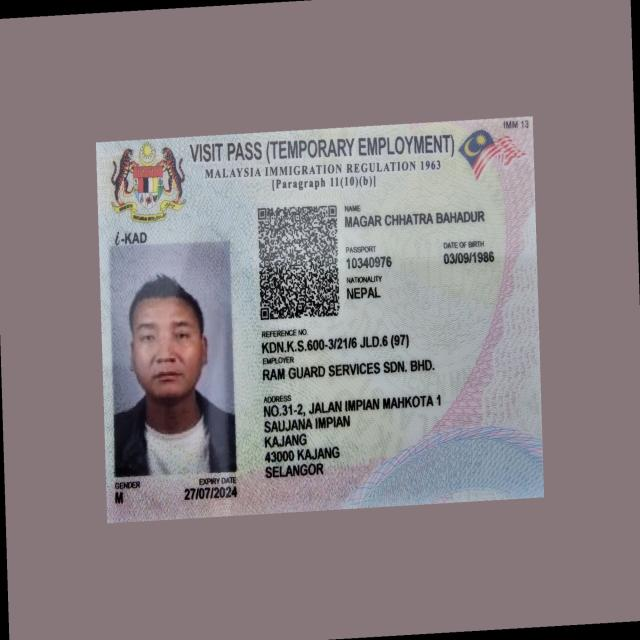ikad-temp: (95, 117, 544, 520)
